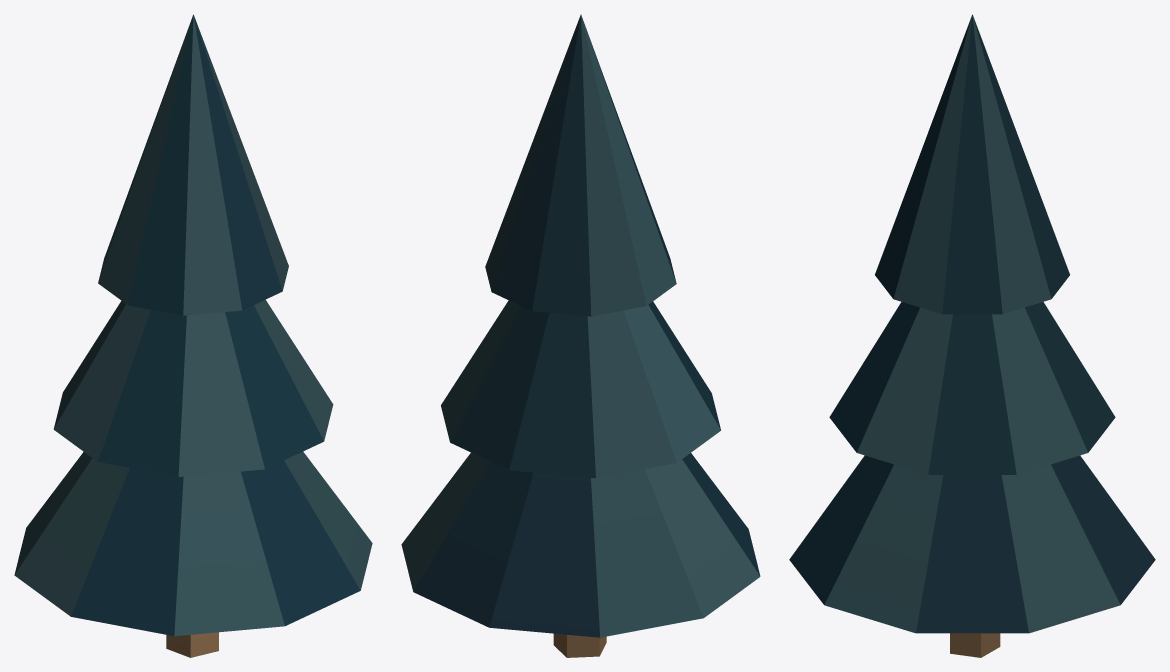
The model's file is pine-lo.glb.
The picture shows the model from 3 angles, left to right: view 1: azimuth 30°, elevation 25°; view 2: azimuth 150°, elevation 25°; view 3: azimuth 270°, elevation 25°; orthographic projection.
Parts seen in each view (by area): view 1: static_mesh; view 2: static_mesh; view 3: static_mesh.
Boxes of the visible parts, bbox=[...] form: static_mesh: bbox=[14, 14, 372, 657]; static_mesh: bbox=[401, 14, 760, 657]; static_mesh: bbox=[789, 14, 1155, 657].
Size of the model in its own units: 2 by 4 by 2.1.
